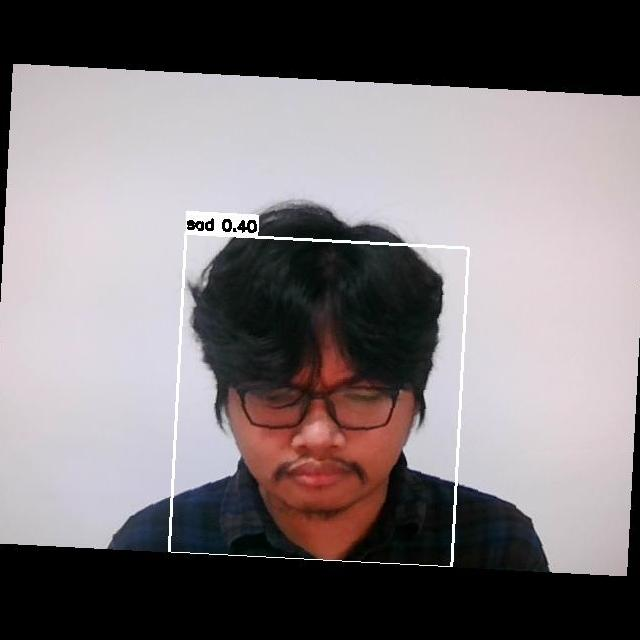Angry: (226, 354, 416, 499)
